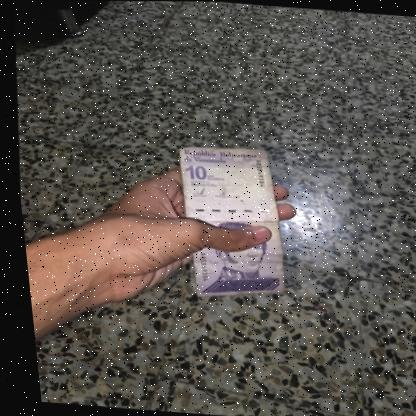ten-front-vef: (166, 144, 287, 303)
